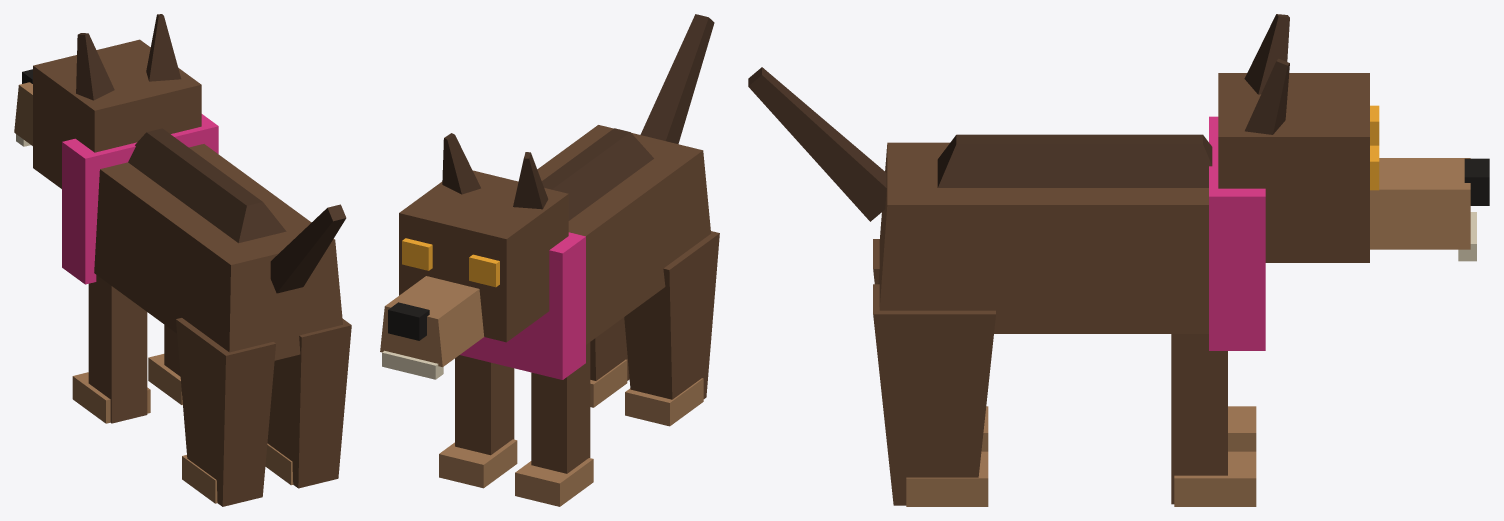
File: EN_PitCur.fbx
3 renders of one model, left to right at view 1: azimuth 30°, elevation 25°; view 2: azimuth 150°, elevation 25°; view 3: azimuth 270°, elevation 25°, orthographic. The views are drawn at different scales.
Visible parts, largest first — view 1: Body, Head, LegL, LegR, Hackles, ArmL, Collar, Tail, EarL, EarR, PawL, PawR (+4 smaller); view 2: Body, Head, LegL, Collar, ArmL, Snout, ArmR, Hackles, Tail, PawL, PawR, FootL (+8 smaller); view 3: Body, Head, LegR, Hackles, Collar, Snout, ArmR, Tail, PawR, FootR, EarR, EarL (+2 smaller).
Boxes of the visible parts, x1,y1,x2,y2 form: Body: (94,144,342,360); Head: (33,39,201,188); LegL: (176,318,275,506); LegR: (267,319,351,488); Hackles: (128,128,286,243); ArmL: (88,275,147,423); Collar: (62,114,218,284); Tail: (270,204,346,293); EarL: (76,33,114,100); EarR: (146,14,181,81); PawL: (72,372,150,423); PawR: (148,354,182,404); Body: (537,125,710,344); Head: (399,170,568,342); LegL: (624,231,719,399); Collar: (460,232,585,379); ArmL: (531,342,590,473); Snout: (380,276,484,367); ArmR: (455,355,514,455); Hackles: (542,128,653,220); Tail: (640,14,714,144); PawL: (515,458,593,506); PawR: (439,439,517,488); FootL: (625,378,703,426); Body: (878,142,1208,333); Head: (1218,73,1369,262); LegR: (873,284,995,505); Hackles: (937,134,1212,187); Collar: (1209,116,1265,350); Snout: (1370,158,1470,249); ArmR: (1171,334,1227,504); Tail: (748,67,886,221); PawR: (1174,451,1256,506); FootR: (906,451,988,506); EarR: (1245,58,1289,134); EarL: (1244,14,1289,94).
Size of the model in its own units: 0.3 by 1.18 by 0.7581.
